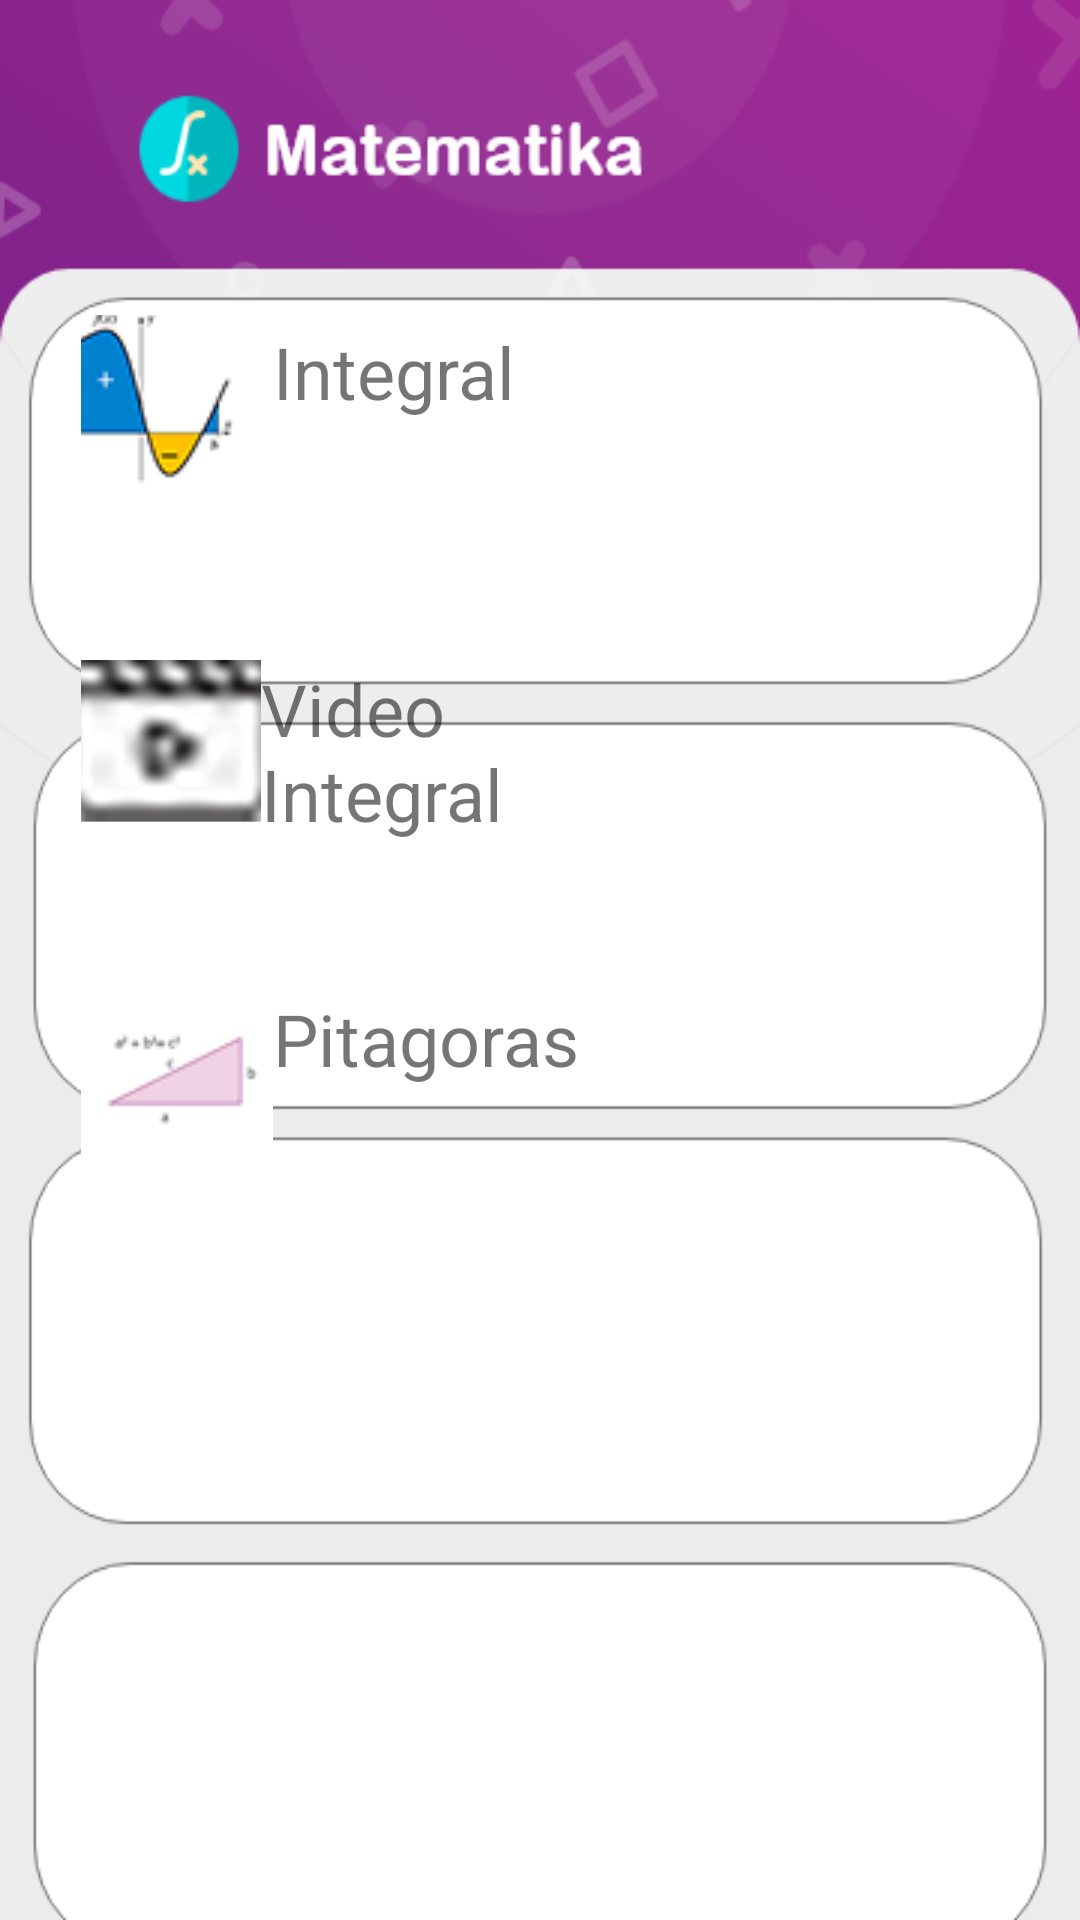

Where icons sit on this 1080x1920 app screen, as (x1, y1, x2, y2):
imagepita: (108, 1035, 257, 1124)
